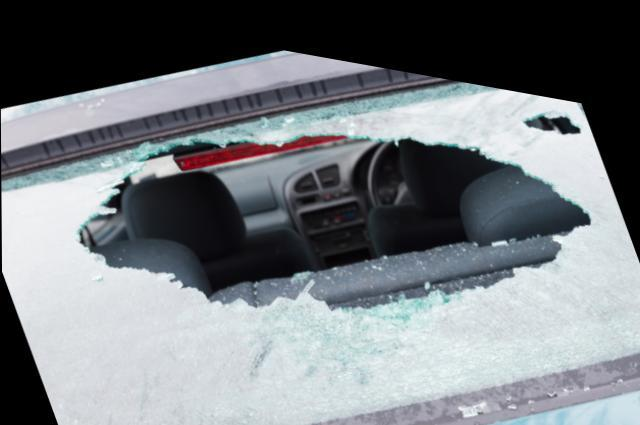glass shatter: (1, 63, 640, 425)
